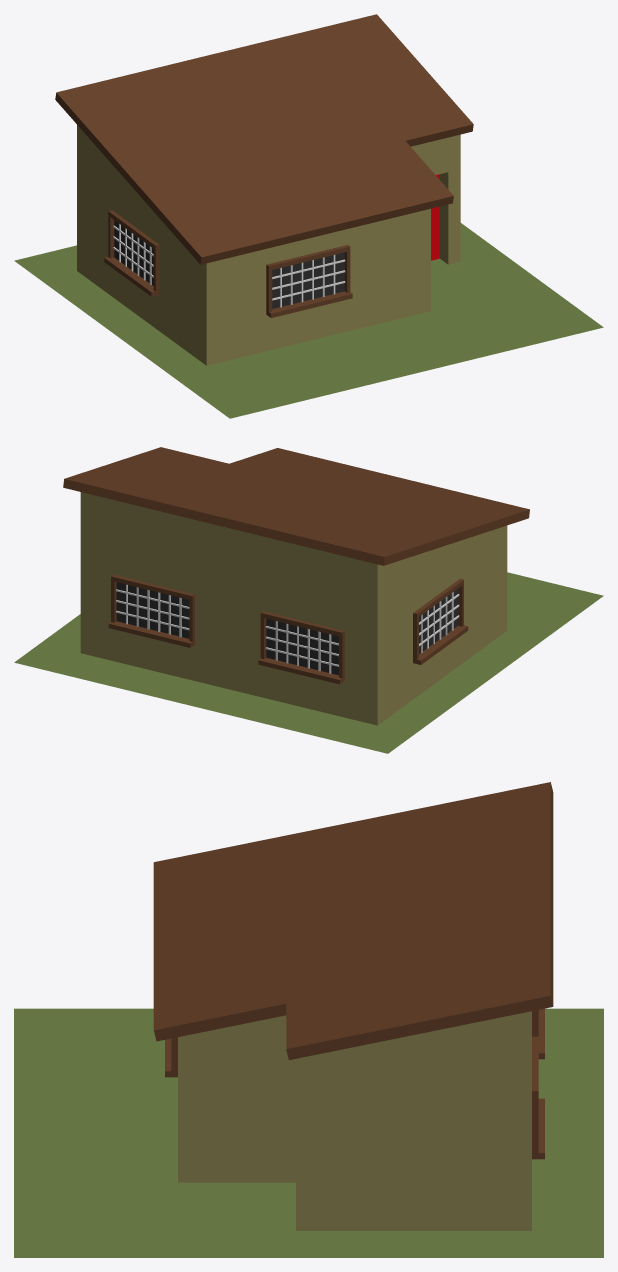
Rendered from Small Shack 1x1.fbx.
The picture shows the model from 3 angles, top to bottom: view 1: azimuth 30°, elevation 25°; view 2: azimuth 150°, elevation 25°; view 3: azimuth 270°, elevation 25°; orthographic projection. The views are drawn at different scales.
Visible parts, largest first — view 1: Small Shack 1x1; view 2: Small Shack 1x1; view 3: Small Shack 1x1.
Part boxes in pixels (x1=…): Small Shack 1x1: x1=14, y1=14, x2=603, y2=418; Small Shack 1x1: x1=14, y1=447, x2=603, y2=753; Small Shack 1x1: x1=14, y1=782, x2=603, y2=1257.
Size of the model in its own units: 1 by 0.4522 by 1.
